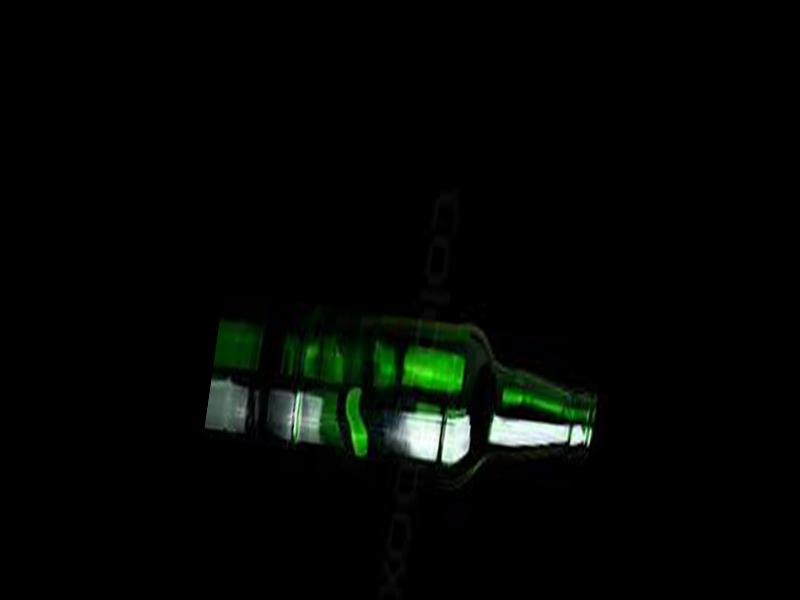Beer: (288, 300, 605, 484)
